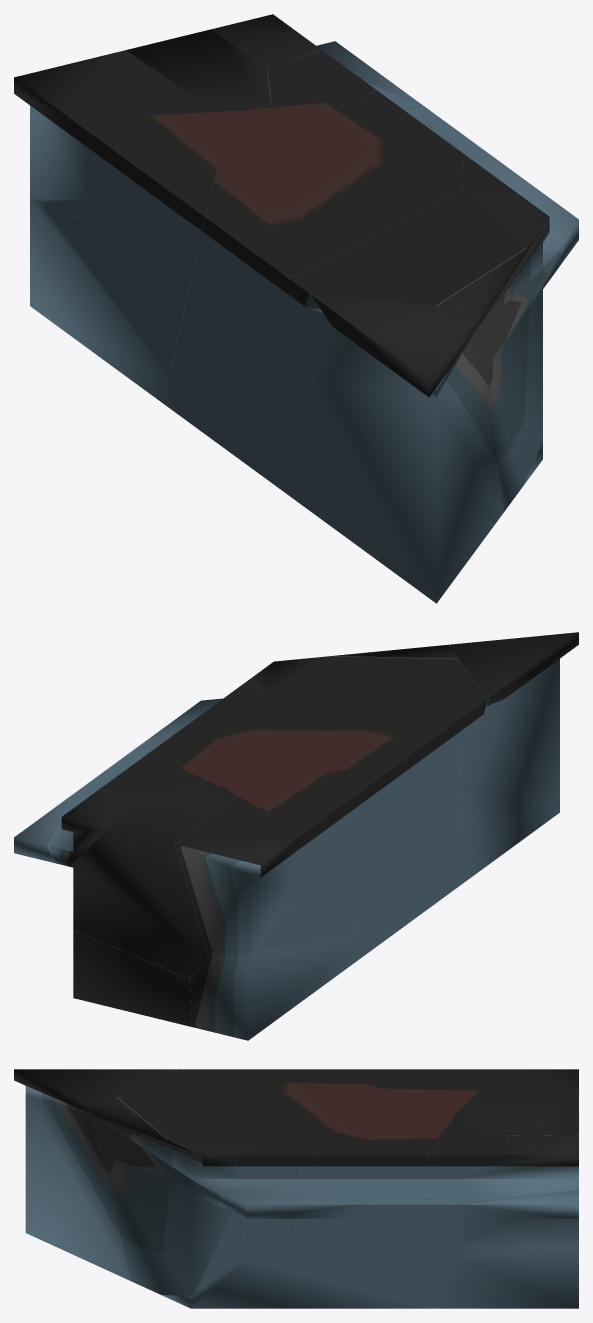
The model's file is VerticleShelf_DEST.fbx.
The picture shows the model from 3 angles, top to bottom: view 1: azimuth 30°, elevation 25°; view 2: azimuth 150°, elevation 25°; view 3: azimuth 270°, elevation 25°; orthographic projection. The views are drawn at different scales.
Visible parts, largest first — view 1: polySurface311_cell.014, polySurface311_cell.017, polySurface311_cell.007, polySurface311_cell.013, polySurface311_cell.003, polySurface311_cell.006, polySurface311_cell.018, polySurface311_cell.016, polySurface311_cell.019, polySurface311_cell.009, polySurface311_cell.012, polySurface311_cell.001 (+4 smaller); view 2: polySurface311_cell.014, polySurface311_cell.009, polySurface311_cell.017, polySurface311_cell.006, polySurface311_cell.007, polySurface311_cell.003, polySurface311_cell.013, polySurface311_cell.002, polySurface311_cell.018, polySurface311_cell.016, polySurface311_cell.005, polySurface311_cell.001 (+4 smaller); view 3: polySurface311_cell.014, polySurface311_cell.017, polySurface311_cell.019, polySurface311_cell.018, polySurface311_cell.021, polySurface311_cell.002, polySurface311_cell.013, polySurface311_cell.009, polySurface311_cell.012, polySurface311_cell.005, polySurface311_cell.016, polySurface311_cell.007 (+4 smaller).
Boxes of the visible parts, bbox=[...] form: polySurface311_cell.014: bbox=[172, 96, 466, 414]; polySurface311_cell.017: bbox=[308, 328, 504, 603]; polySurface311_cell.007: bbox=[67, 111, 228, 365]; polySurface311_cell.013: bbox=[288, 190, 549, 309]; polySurface311_cell.003: bbox=[30, 198, 197, 410]; polySurface311_cell.006: bbox=[14, 50, 212, 221]; polySurface311_cell.018: bbox=[172, 375, 542, 518]; polySurface311_cell.016: bbox=[310, 294, 480, 399]; polySurface311_cell.019: bbox=[485, 253, 560, 511]; polySurface311_cell.009: bbox=[126, 29, 271, 249]; polySurface311_cell.012: bbox=[308, 219, 560, 383]; polySurface311_cell.001: bbox=[267, 50, 439, 124]; polySurface311_cell.014: bbox=[110, 696, 474, 931]; polySurface311_cell.009: bbox=[70, 782, 236, 978]; polySurface311_cell.017: bbox=[461, 659, 559, 876]; polySurface311_cell.006: bbox=[175, 797, 301, 957]; polySurface311_cell.007: bbox=[236, 758, 406, 927]; polySurface311_cell.003: bbox=[190, 913, 358, 1040]; polySurface311_cell.013: bbox=[251, 656, 486, 720]; polySurface311_cell.002: bbox=[73, 930, 191, 1026]; polySurface311_cell.018: bbox=[357, 812, 471, 960]; polySurface311_cell.016: bbox=[449, 632, 578, 705]; polySurface311_cell.005: bbox=[47, 788, 146, 866]; polySurface311_cell.001: bbox=[81, 759, 204, 798]; polySurface311_cell.014: bbox=[205, 1069, 454, 1280]; polySurface311_cell.017: bbox=[25, 1094, 130, 1280]; polySurface311_cell.019: bbox=[102, 1155, 241, 1296]; polySurface311_cell.018: bbox=[161, 1250, 434, 1308]; polySurface311_cell.021: bbox=[218, 1143, 374, 1259]; polySurface311_cell.002: bbox=[433, 1248, 578, 1308]; polySurface311_cell.013: bbox=[117, 1069, 268, 1160]; polySurface311_cell.009: bbox=[449, 1106, 578, 1253]; polySurface311_cell.012: bbox=[91, 1096, 243, 1196]; polySurface311_cell.005: bbox=[454, 1135, 578, 1206]; polySurface311_cell.016: bbox=[14, 1069, 175, 1113]; polySurface311_cell.007: bbox=[319, 1069, 505, 1110].
Bounding box in the file's own units: 3.13 × 2.16 × 7.
